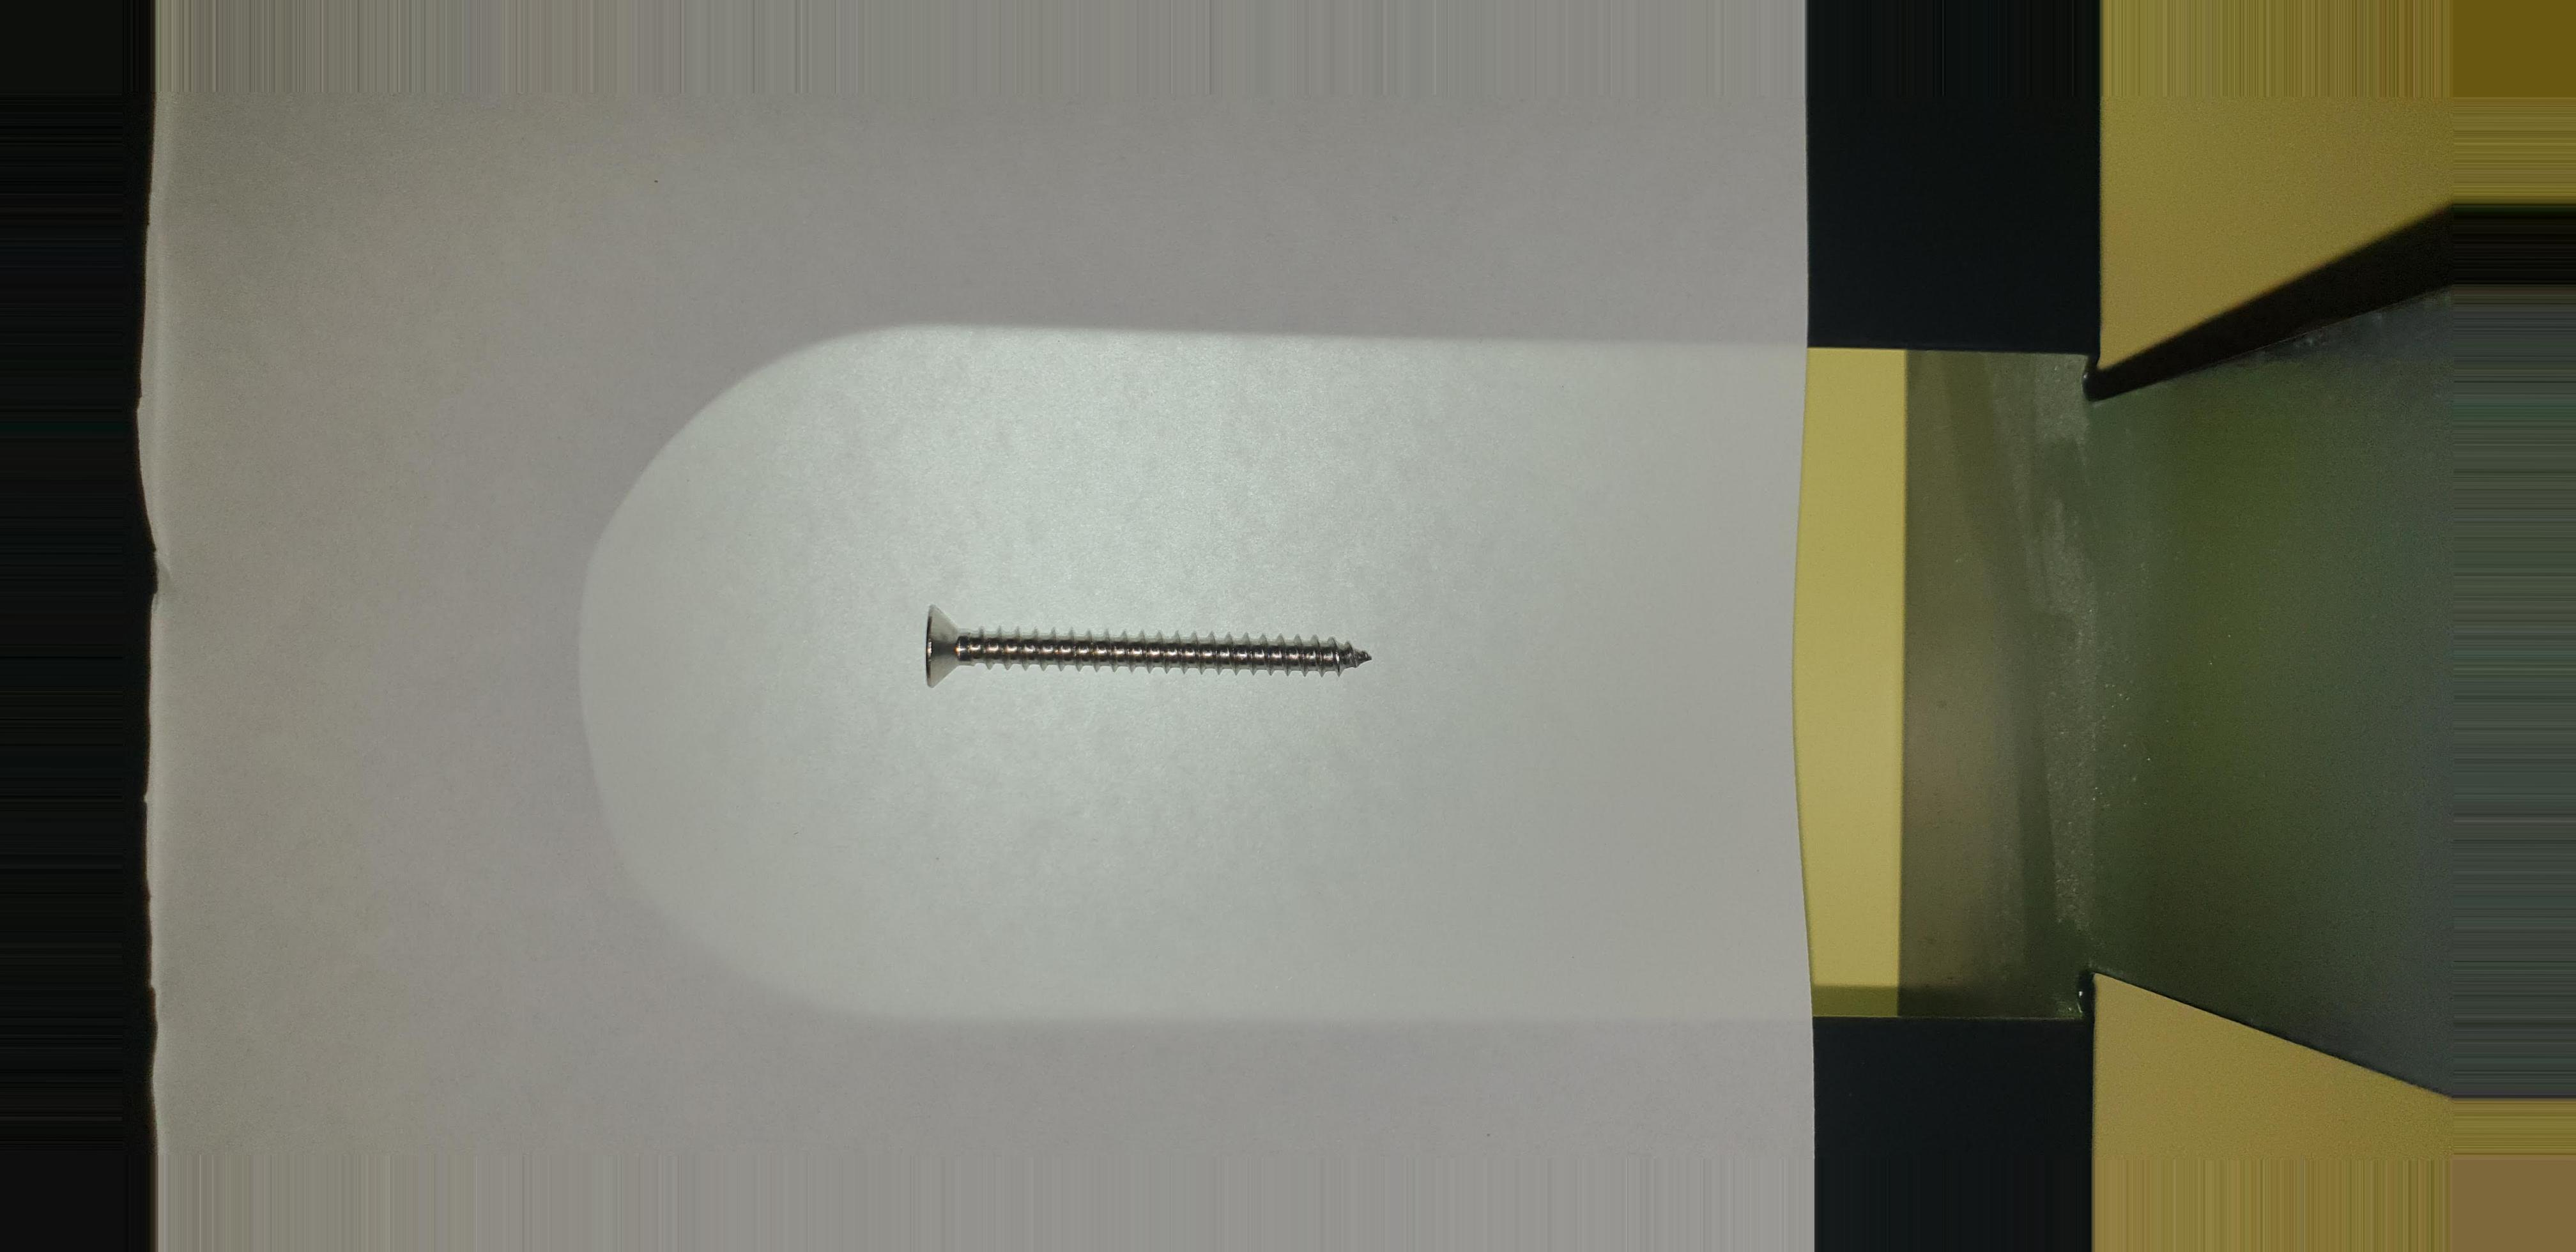fastener: (897, 554, 1405, 725)
